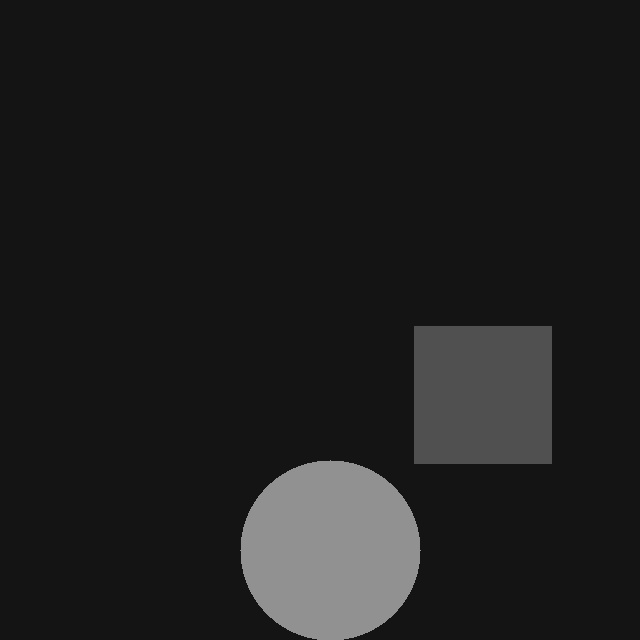circle: (240, 460, 420, 640)
square: (414, 326, 551, 463)
